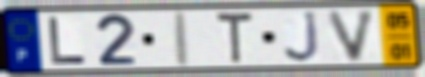2: (93, 12, 142, 69)
I: (174, 9, 193, 69)
J: (282, 9, 324, 65)
L: (47, 15, 89, 67)
T: (213, 10, 255, 67)
V: (325, 8, 380, 64)
